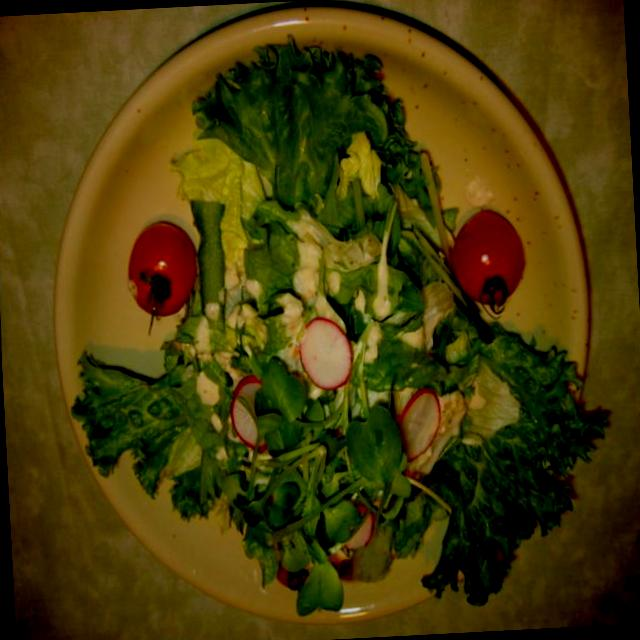Green Salad: (29, 0, 624, 640)
